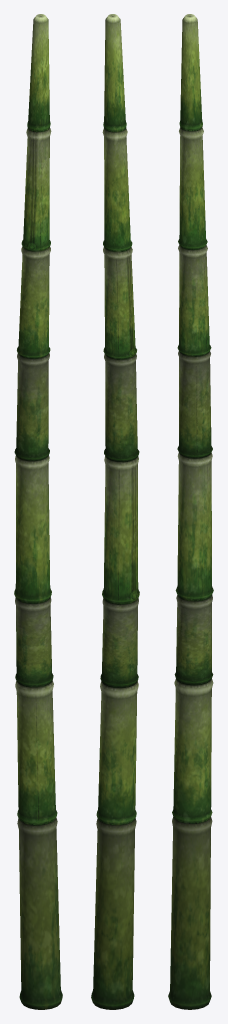
Rendered from BambooSet_part_16.fbx.
3 renders of one model, left to right at view 1: azimuth 30°, elevation 25°; view 2: azimuth 210°, elevation 25°; view 3: azimuth 270°, elevation 25°, orthographic.
Parts seen in each view (by area): view 1: Object_38.001; view 2: Object_38.001; view 3: Object_38.001.
Boxes of the visible parts, x1,y1,x2,y2 form: Object_38.001: (14,14,62,1009); Object_38.001: (91,14,139,1009); Object_38.001: (168,14,213,1009).
Bounding box in the file's own units: 118 × 2700 × 114.
